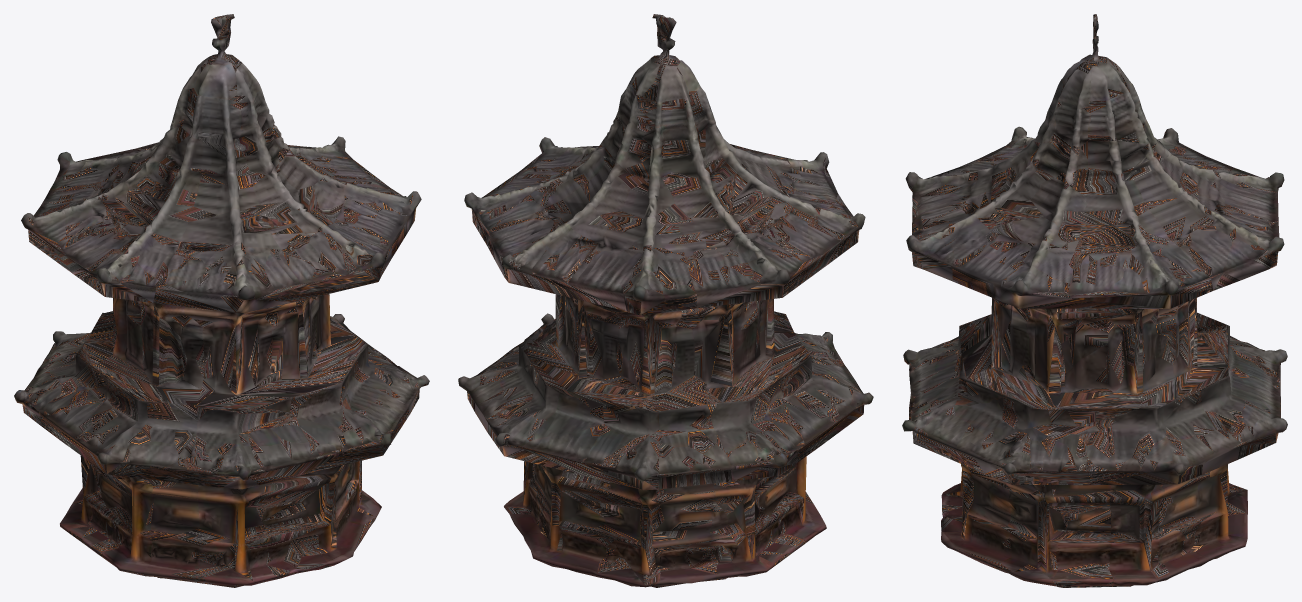
The model's file is bq_granary.lod.glb.
The picture shows the model from 3 angles, left to right: view 1: azimuth 30°, elevation 25°; view 2: azimuth 150°, elevation 25°; view 3: azimuth 270°, elevation 25°; orthographic projection.
Size of the model in its own units: 1.29 by 1.98 by 1.31.
1 material, 1 textured.
